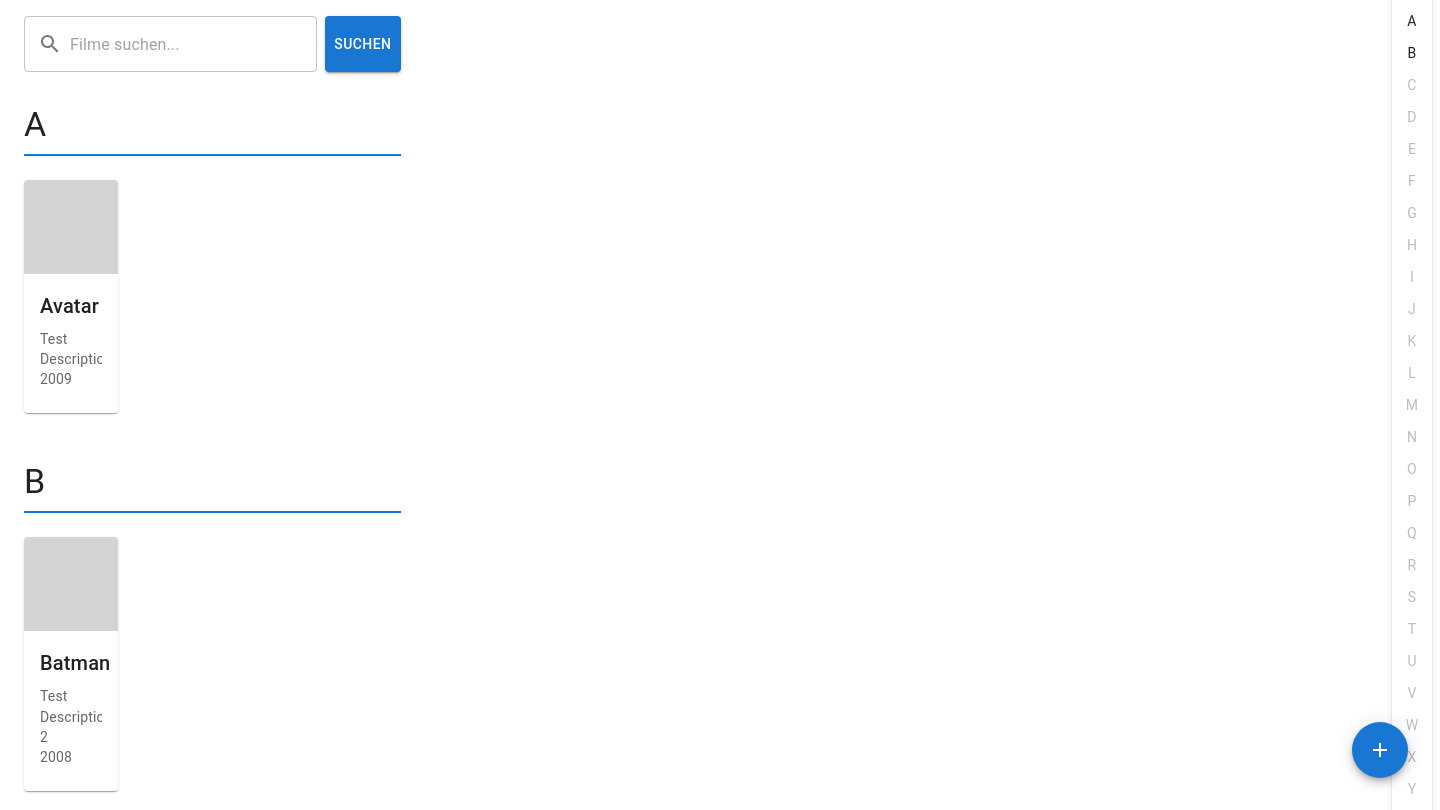
Test: MovieList › sollte den AddMovieDialog öffnen, wenn auf den FAB-Button geklickt wird
Click the button named "film hinzufügen".
click(1380, 750)  # box top-left (1352, 722), bottom-right (1408, 778)
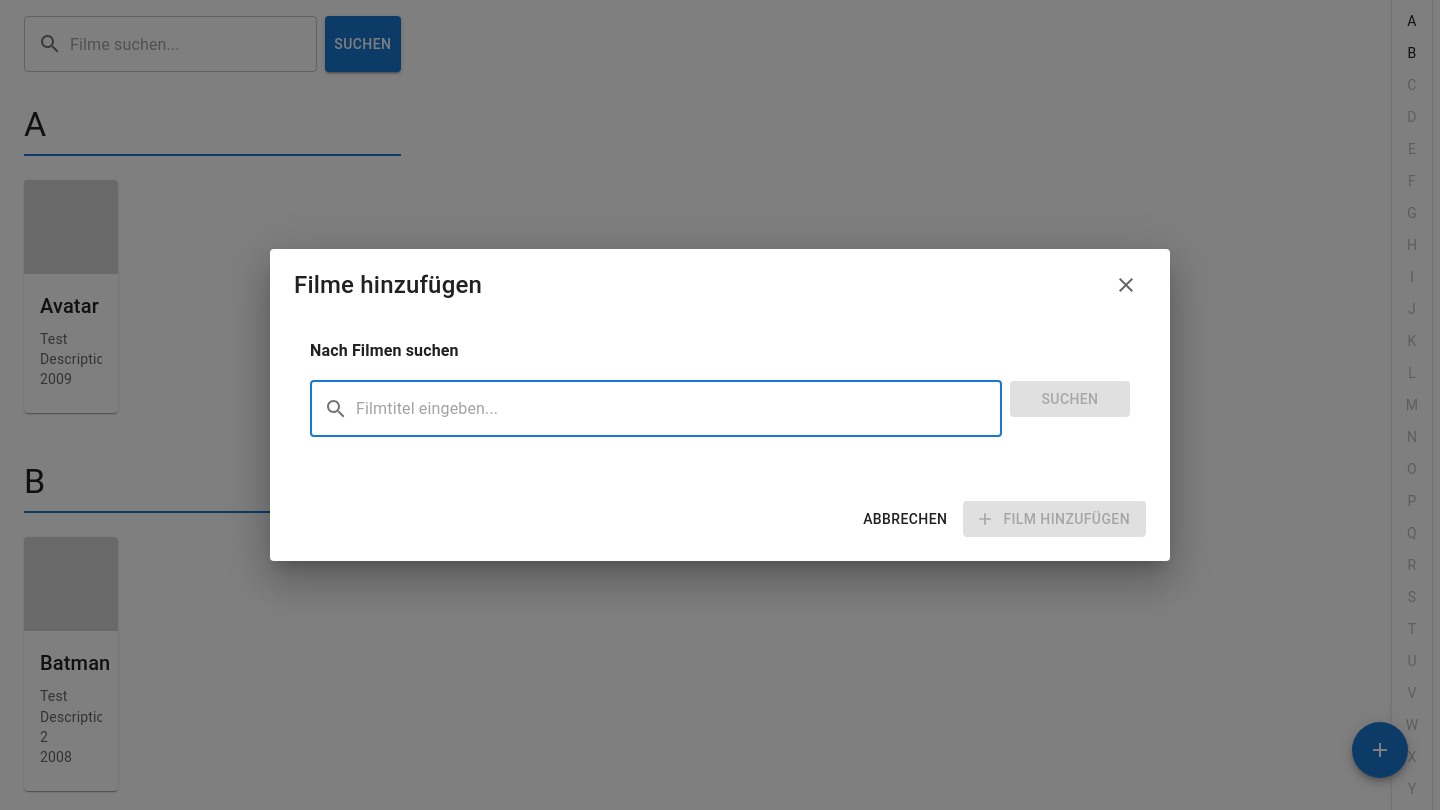
Now the dialog is shown, box top-left (270, 249), bottom-right (1170, 561)
